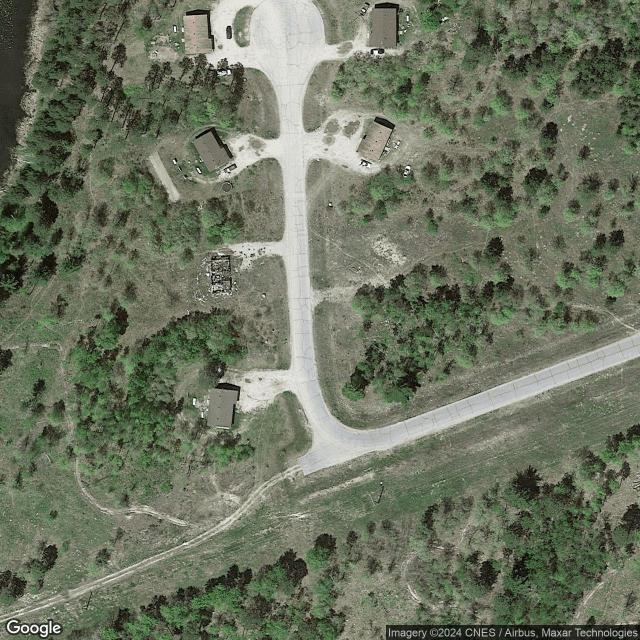Propane: (195, 166, 203, 175), (192, 396, 198, 407), (200, 410, 205, 420), (405, 14, 410, 23), (395, 140, 401, 147), (173, 25, 177, 33)
